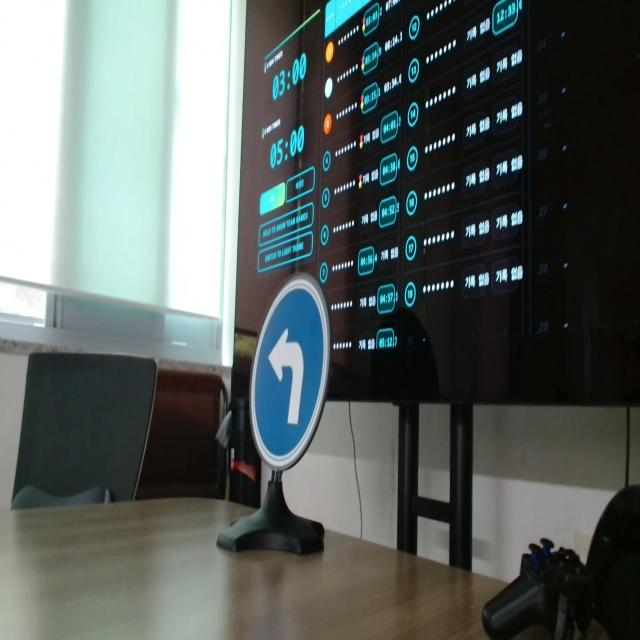left_direction: (245, 274, 333, 468)
